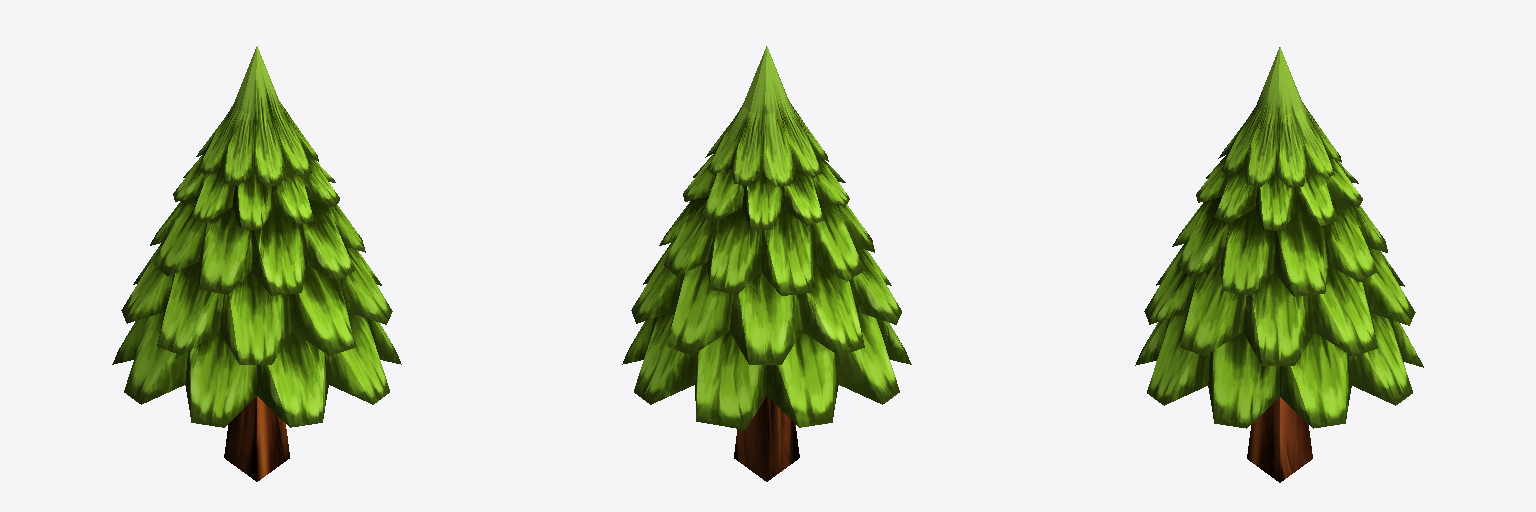
The picture shows the model from 3 angles: view 1: azimuth 30°, elevation 25°; view 2: azimuth 150°, elevation 25°; view 3: azimuth 270°, elevation 25°; orthographic projection.
Visible parts, largest first — view 1: Cone002_Untitled; view 2: Cone002_Untitled; view 3: Cone002_Untitled.
Part boxes in pixels (x1,y1,x2,y2): Cone002_Untitled: (112, 46, 401, 481); Cone002_Untitled: (622, 46, 911, 481); Cone002_Untitled: (1135, 47, 1423, 482).
Bounding box in the file's own units: 53.68 × 87.35 × 54.51.
1 materials, 1 textured.